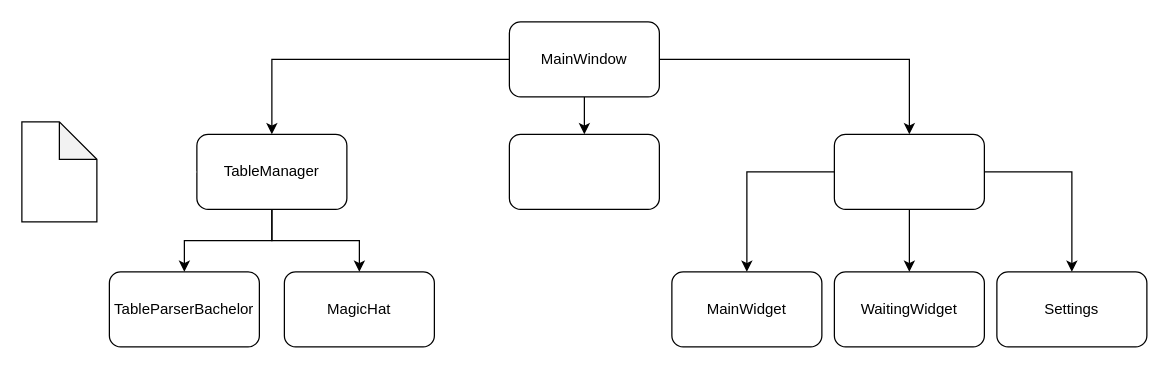
Some shapes in this 1169 by 369 pixel diagram are drawn without their labels. The shapes that lost their labels are listed below. From the top down, each one's box as (x1, y1, x2, y2) in pixels, then its label:
(21, 121, 97, 222): Tables
(508, 133, 659, 209): SupportSystem
(833, 133, 984, 209): StackedLayout
